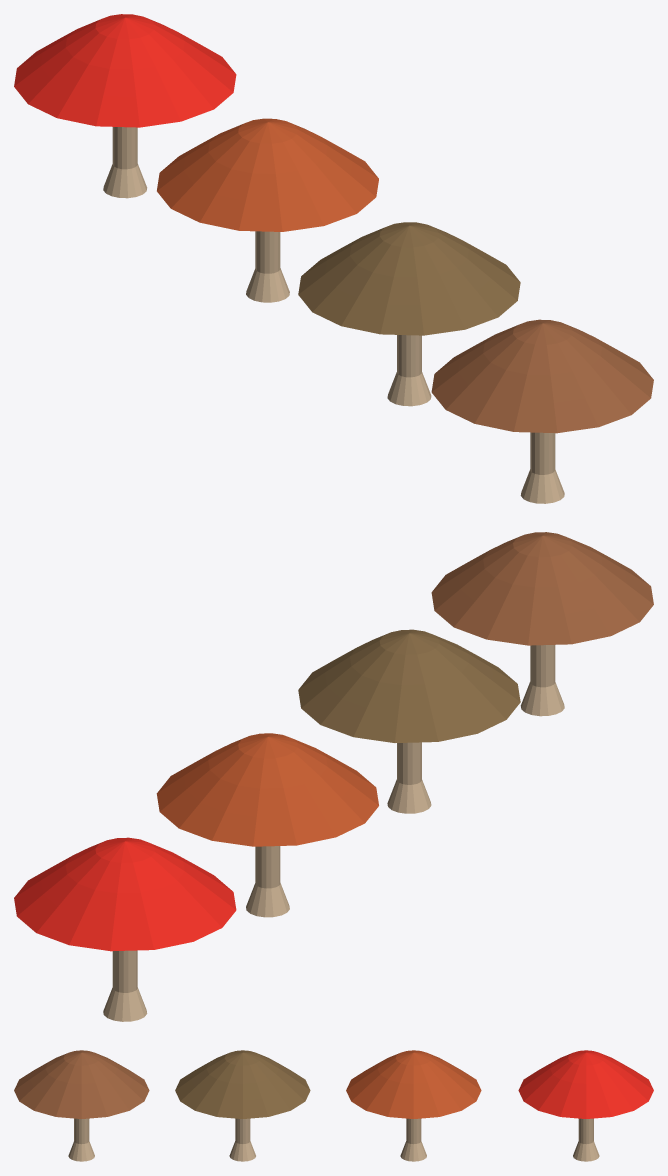
Rendered from Jamur.fbx.
The picture shows the model from 3 angles, top to bottom: view 1: azimuth 30°, elevation 25°; view 2: azimuth 150°, elevation 25°; view 3: azimuth 270°, elevation 25°; orthographic projection. The views are drawn at different scales.
Visible parts, largest first — view 1: Sphere, Sphere.004, Sphere.006, Sphere.002, Sphere.003, Sphere.007, Sphere.001, Sphere.005; view 2: Sphere.002, Sphere.006, Sphere, Sphere.004, Sphere.003, Sphere.001, Sphere.007, Sphere.005; view 3: Sphere.002, Sphere.004, Sphere, Sphere.006, Sphere.001, Sphere.003, Sphere.005, Sphere.007.
Boxes of the visible parts, box(x1,y1,x2,y2) form: Sphere: box(14, 14, 236, 127); Sphere.004: box(298, 222, 520, 335); Sphere.006: box(431, 319, 653, 433); Sphere.002: box(157, 118, 378, 231); Sphere.003: box(246, 231, 289, 302); Sphere.007: box(520, 432, 564, 503); Sphere.001: box(103, 127, 147, 198); Sphere.005: box(387, 335, 431, 406); Sphere.002: box(156, 733, 378, 846); Sphere.006: box(431, 532, 653, 645); Sphere: box(14, 837, 236, 951); Sphere.004: box(298, 629, 520, 742); Sphere.003: box(246, 846, 289, 917); Sphere.001: box(103, 950, 147, 1021); Sphere.007: box(520, 645, 564, 716); Sphere.005: box(387, 742, 431, 813); Sphere.002: box(346, 1050, 481, 1118); Sphere.004: box(175, 1050, 310, 1118); Sphere: box(518, 1050, 653, 1118); Sphere.006: box(14, 1050, 149, 1118); Sphere.001: box(573, 1118, 599, 1161); Sphere.003: box(400, 1118, 426, 1161); Sphere.005: box(229, 1118, 255, 1161); Sphere.007: box(68, 1118, 94, 1161).
Size of the model in its own units: 103 by 86.86 by 487.
